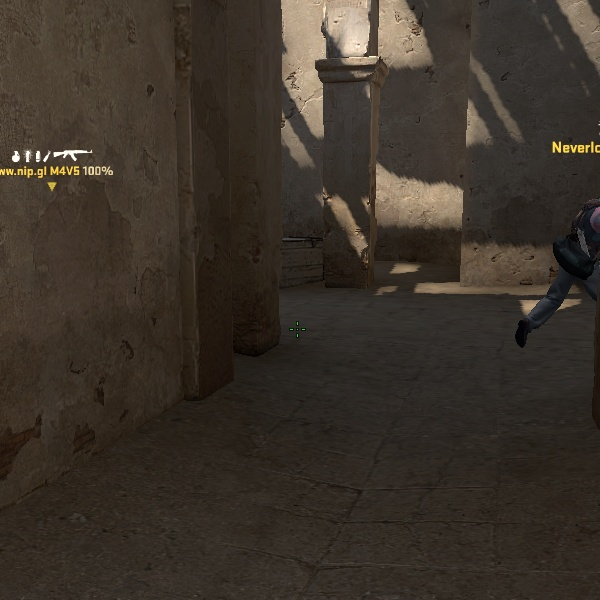t_body: (543, 186, 597, 338)
